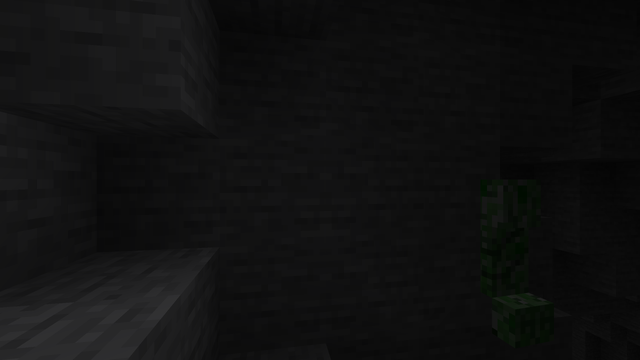creepers: (476, 171, 549, 342)
